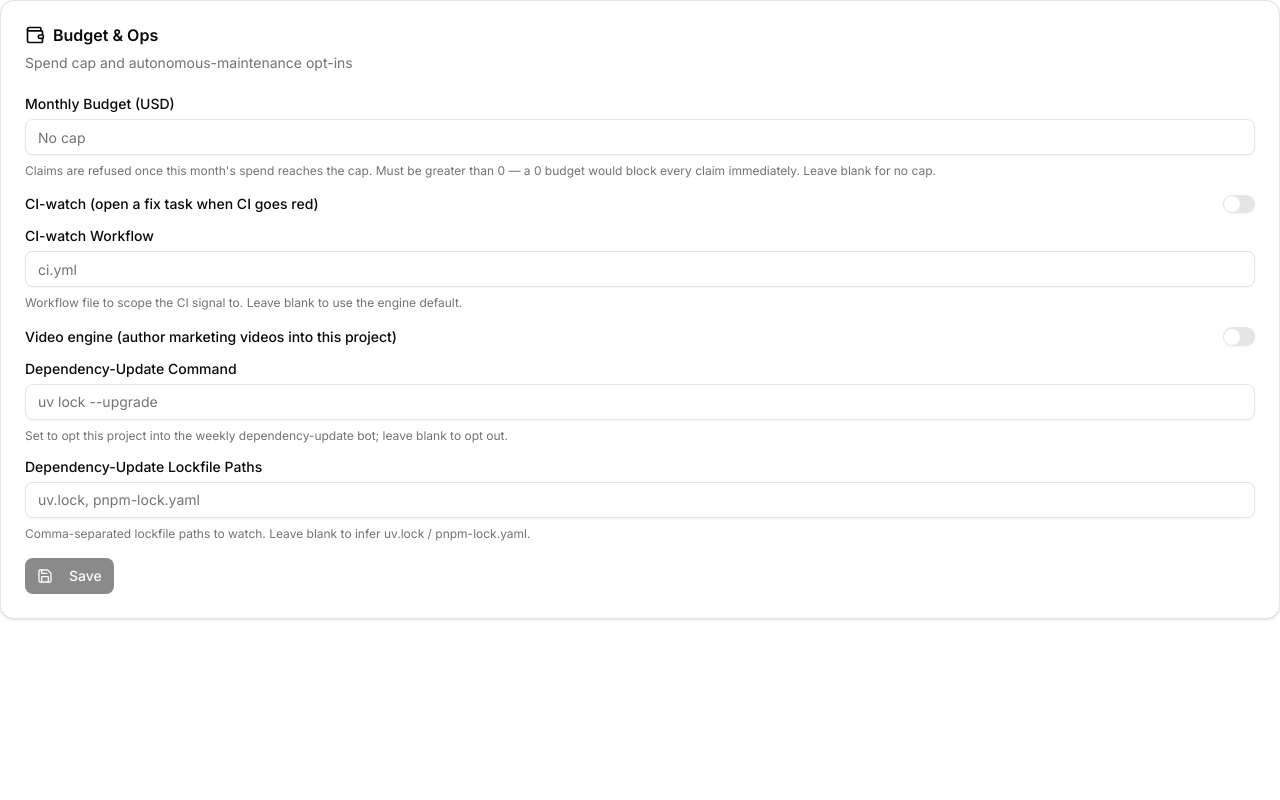
BudgetOpsCard › Save is disabled until a field changes
The image size is (1280, 800).
Expected: the button "Save" is disabled, [25,558,114,594]
Click the 1st switch named "CI-watch".
click(1239, 204)  # box [1223,195,1255,213]
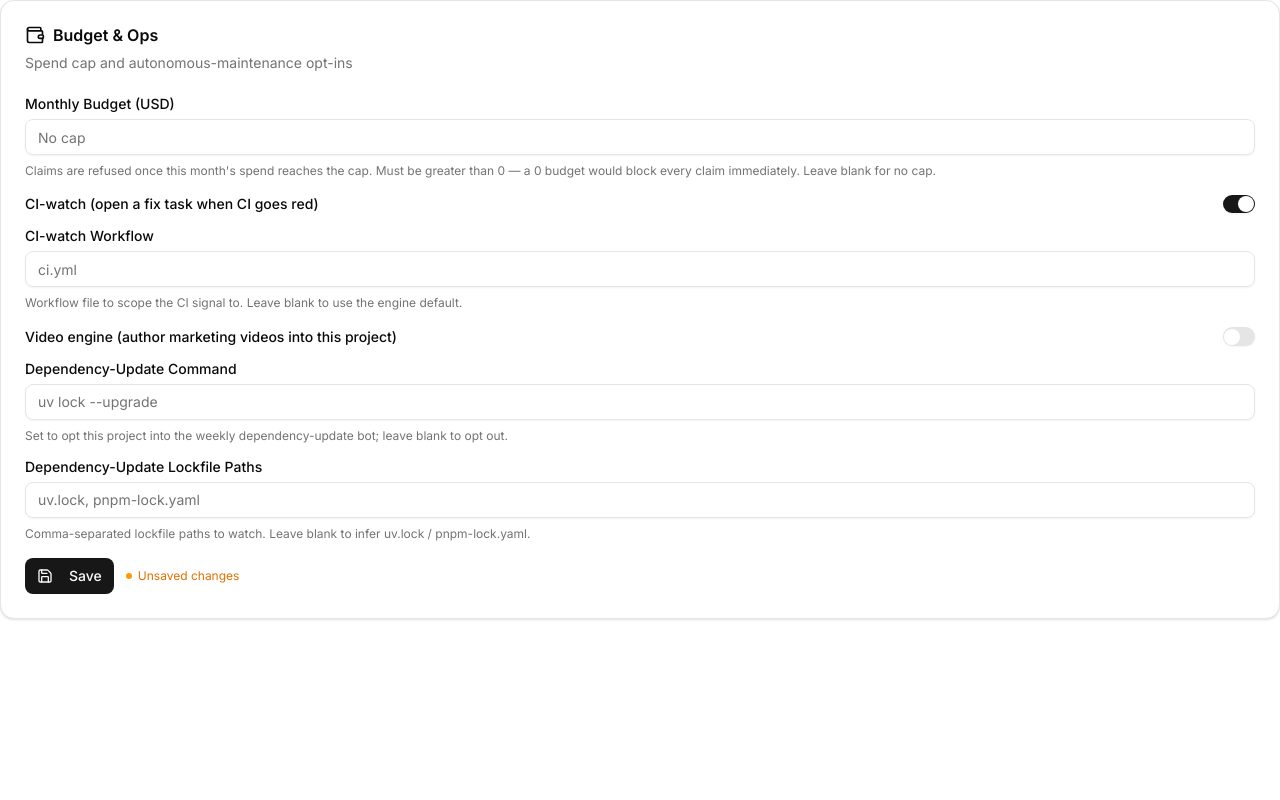
Expected: the button "Save" is enabled, [25,558,114,594]
